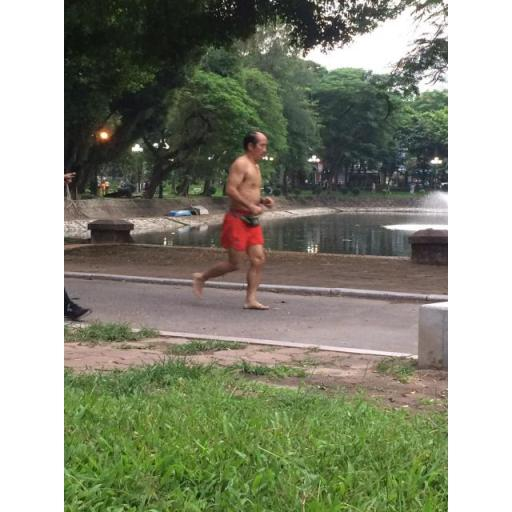Running: (192, 116, 278, 314)
